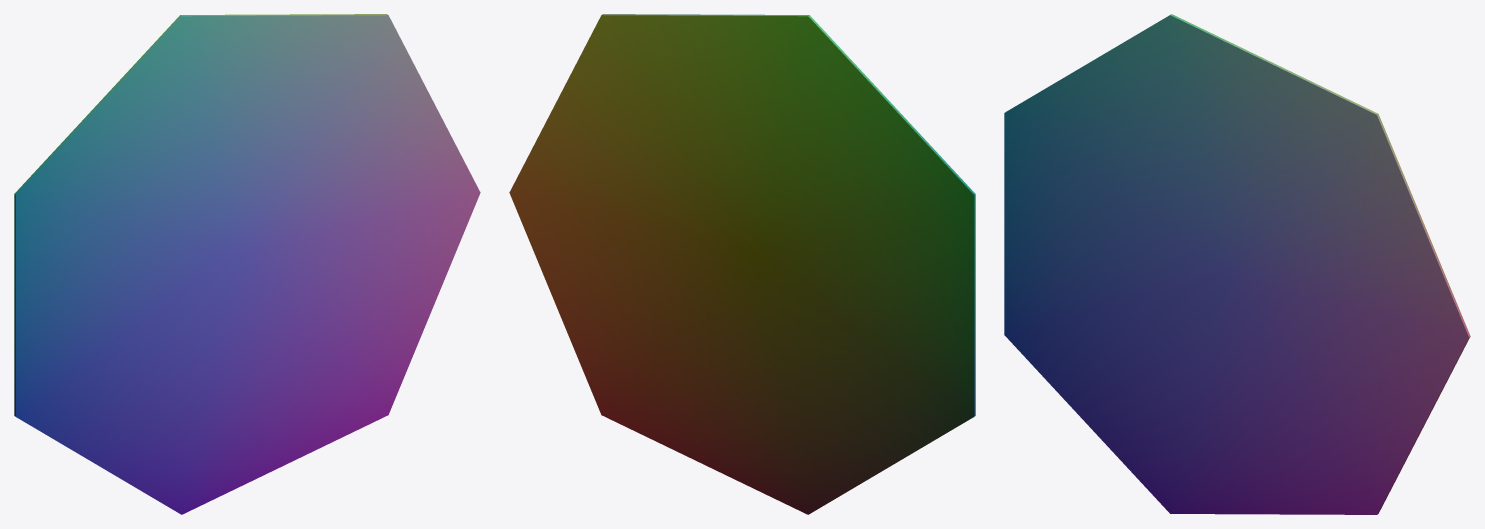
Rendered from zeometry-flat-shapes-flat-polygon_v3.glb.
The picture shows the model from 3 angles, left to right: view 1: azimuth 30°, elevation 25°; view 2: azimuth 150°, elevation 25°; view 3: azimuth 330°, elevation 25°; orthographic projection.
Parts seen in each view (by area): view 1: Flat Polygon_v3; view 2: Flat Polygon_v3; view 3: Flat Polygon_v3.
Boxes of the visible parts, bbox=[...] form: Flat Polygon_v3: bbox=[14, 14, 480, 514]; Flat Polygon_v3: bbox=[509, 14, 975, 514]; Flat Polygon_v3: bbox=[1004, 14, 1470, 514].
Size of the model in its own units: 0.4875 by 0.5 by 0.00287.
